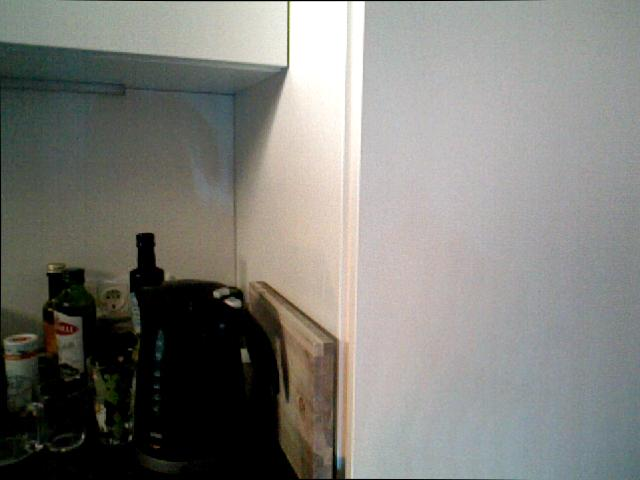bench: (52, 266, 97, 389), (125, 231, 164, 370), (39, 262, 66, 389)
handbag: (0, 377, 52, 465), (89, 350, 133, 449), (35, 384, 94, 448)
hot dog: (326, 0, 640, 480)
